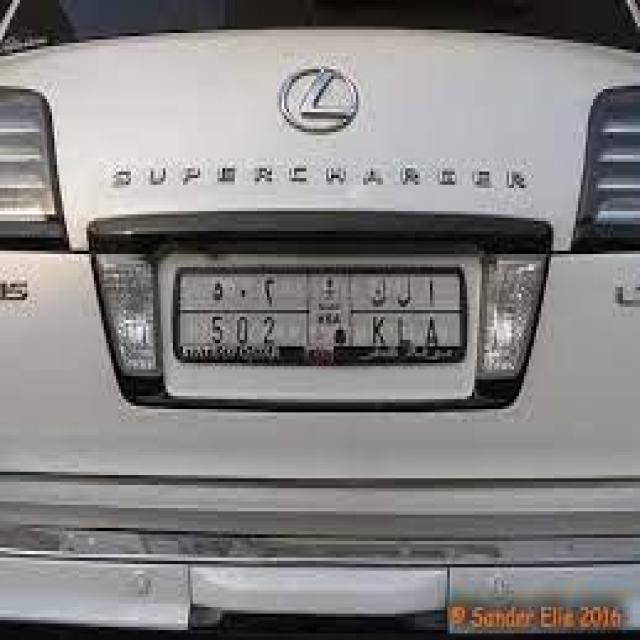license_plate: (141, 215, 497, 402)
